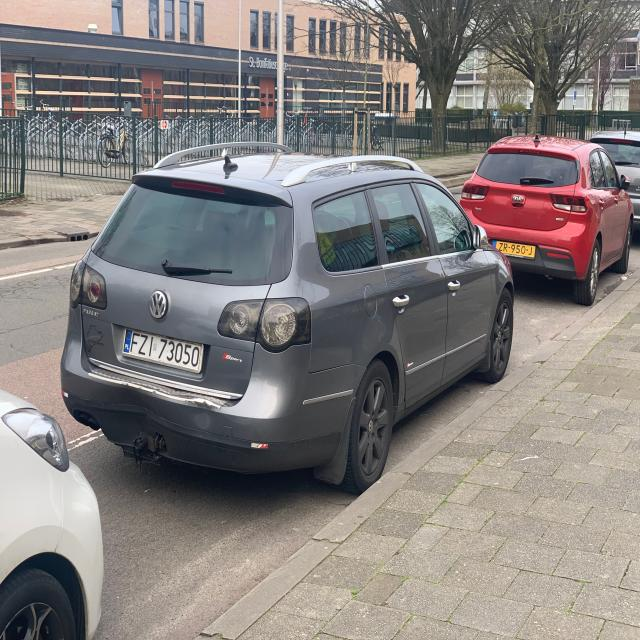plate: (121, 327, 204, 374)
